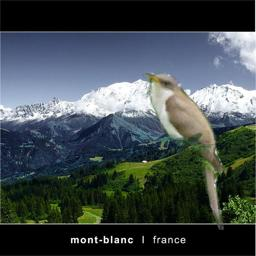Cuckoo: (139, 68, 227, 232)
